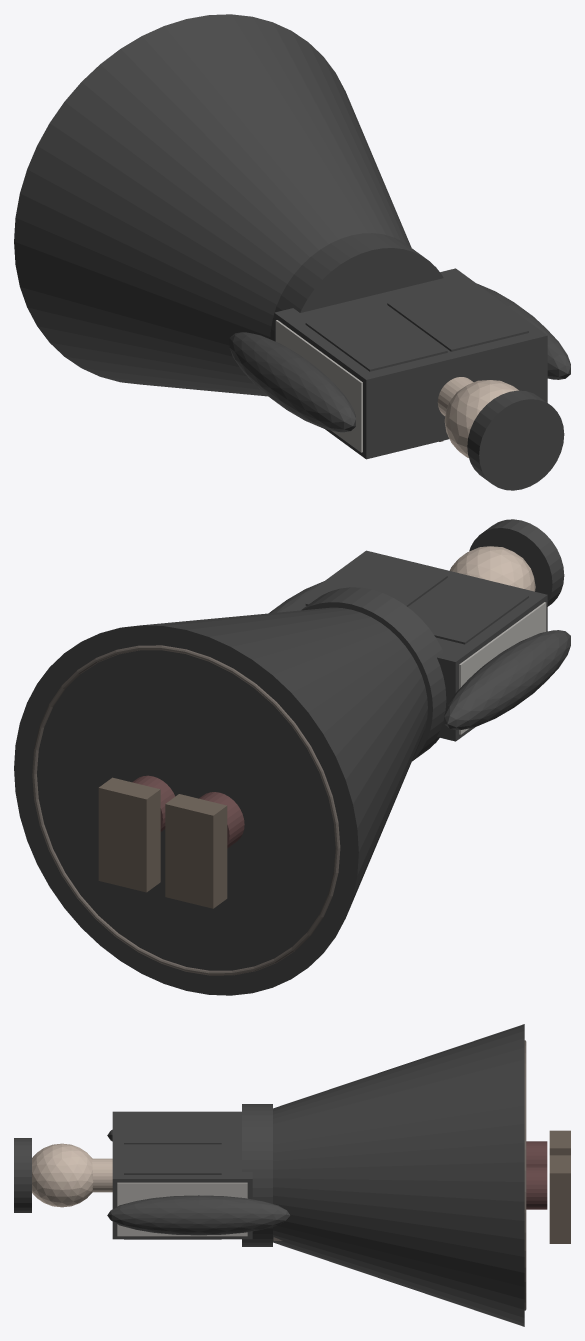
The model's file is MASTER_093_STAGE3_DETAIL.glb.
3 renders of one model, top to bottom at view 1: azimuth 30°, elevation 25°; view 2: azimuth 150°, elevation 25°; view 3: azimuth 270°, elevation 25°, orthographic. The views are drawn at different scales.
Visible parts, largest first — view 1: slot_lower_main__fund_i_gjatë, slot_upper_inner__këmishë, slot_waist__brez, slot_headwear__mbulesë_koke, slot_upper_inner_sleeve_L, slot_upper_outer__jelek_L, slot_upper_outer__jelek_R, mannequin_torso, mannequin_head, slot_upper_inner_sleeve_R; view 2: slot_lower_main__fund_i_gjatë, slot_footwear__opinga_R, slot_footwear__opinga_L, slot_upper_inner_sleeve_L, slot_waist__brez, detail_skirt_hem, slot_upper_inner__këmishë, slot_upper_outer__jelek_L, slot_headwear__mbulesë_koke, slot_upper_outer__jelek_R, mannequin_head, mannequin_torso (+2 smaller); view 3: slot_lower_main__fund_i_gjatë, slot_upper_inner_sleeve_R, slot_upper_inner__këmishë, mannequin_head, slot_waist__brez, slot_upper_outer__jelek_R, slot_upper_outer__jelek_L, mannequin_torso, slot_footwear__opinga_R, slot_headwear__mbulesë_koke, slot_legwear__çorape_R, detail_skirt_hem (+3 smaller).
Boxes of the visible parts, box(x1,y1,x2,y2) form: slot_lower_main__fund_i_gjatë: box(14, 14, 411, 396); slot_upper_inner__këmishë: box(274, 268, 547, 459); slot_waist__brez: box(270, 233, 443, 340); slot_headwear__mbulesë_koke: box(467, 390, 564, 490); slot_upper_inner_sleeve_L: box(229, 332, 355, 432); slot_upper_outer__jelek_L: box(305, 304, 447, 371); slot_upper_outer__jelek_R: box(387, 284, 528, 351); mannequin_torso: box(275, 320, 362, 452); mannequin_head: box(444, 380, 518, 457); slot_upper_inner_sleeve_R: box(476, 283, 570, 379); slot_lower_main__fund_i_gjatë: box(14, 607, 427, 995); slot_footwear__opinga_R: box(98, 777, 160, 892); slot_footwear__opinga_L: box(165, 794, 227, 908); slot_upper_inner_sleeve_L: box(444, 630, 570, 729); slot_waist__brez: box(301, 587, 446, 761); detail_skirt_hem: box(32, 645, 340, 975); slot_upper_inner__këmishë: box(282, 550, 547, 741); slot_upper_outer__jelek_L: box(409, 576, 528, 644); slot_headwear__mbulesë_koke: box(469, 519, 564, 606); slot_upper_outer__jelek_R: box(305, 557, 447, 606); mannequin_head: box(449, 546, 535, 591); mannequin_torso: box(459, 602, 546, 734); slot_lower_main__fund_i_gjatë: box(273, 1024, 524, 1326); slot_upper_inner_sleeve_R: box(107, 1195, 290, 1235); slot_upper_inner__këmishë: box(112, 1111, 252, 1239); mannequin_head: box(32, 1143, 93, 1207); slot_waist__brez: box(242, 1104, 272, 1246); slot_upper_outer__jelek_R: box(124, 1144, 221, 1239); slot_upper_outer__jelek_L: box(124, 1114, 221, 1144); mannequin_torso: box(117, 1182, 247, 1236); slot_footwear__opinga_R: box(549, 1155, 570, 1243); slot_headwear__mbulesë_koke: box(14, 1138, 31, 1212); slot_legwear__çorape_R: box(526, 1166, 547, 1209); detail_skirt_hem: box(524, 1040, 526, 1310).
Bounding box in the file's own units: 0.931 × 0.931 × 1.71.
